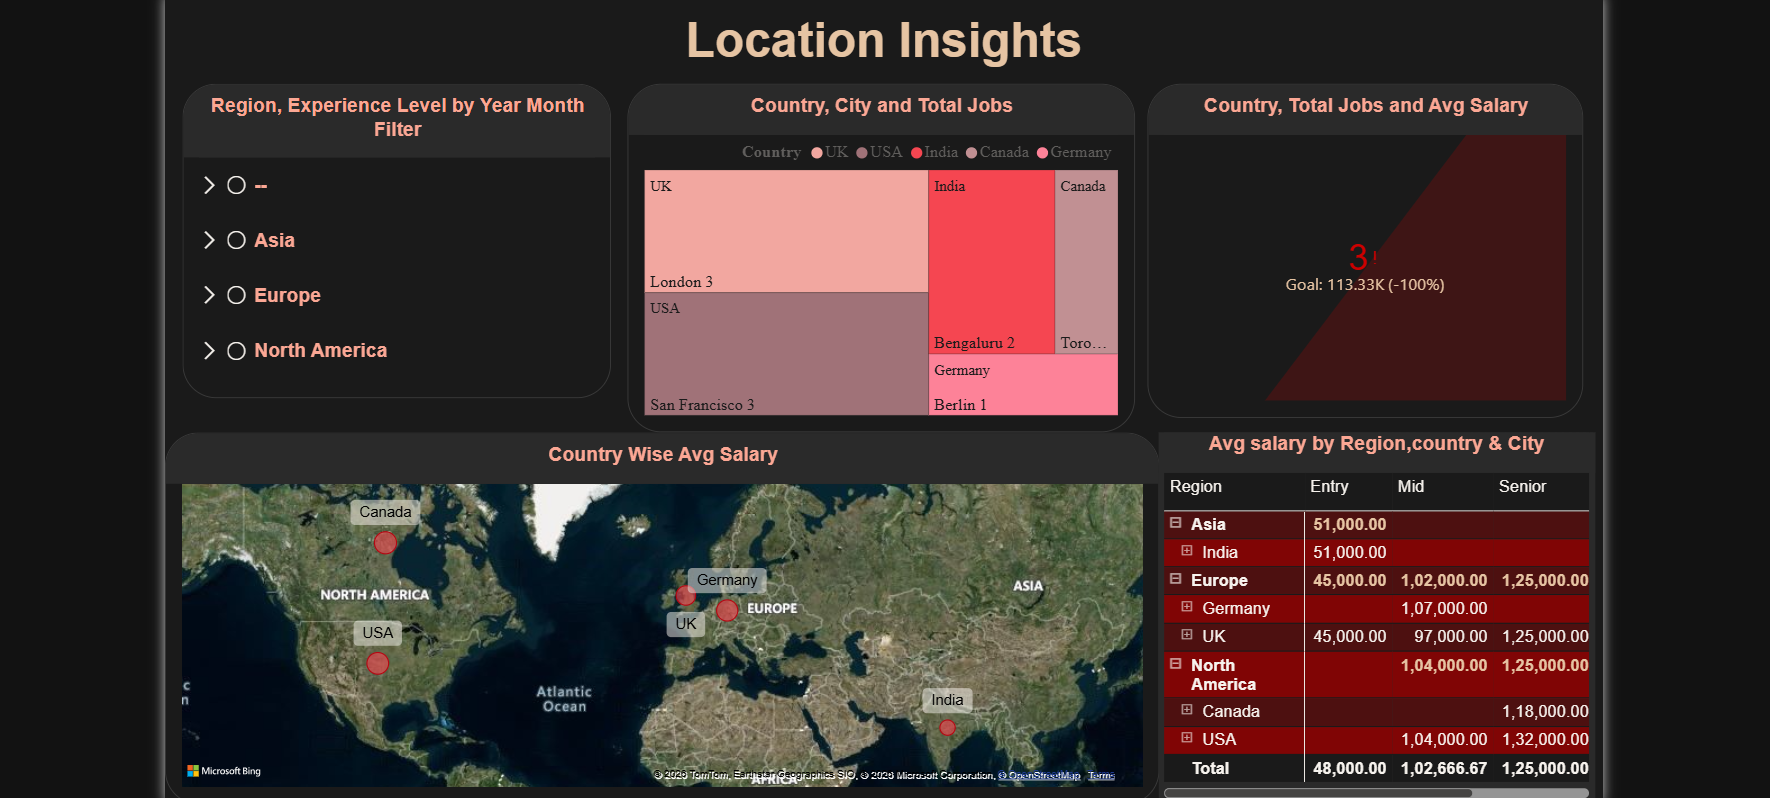

The dashboard page shown, as its layout file describes it:
{"tool":"powerbi","page":{"name":"Loction insights","canvas":[1280,720],"ordinal":1},"visuals":[{"type":"listSlicer","title":"Region, Experience Level by Year Month Filter","fields":{"Values":["Dim_Locations.Region","Fact_Jobs.Experience_Level","Dim_Date.YearMonth"]},"box":[15.9,79.5,381.7,279.9],"z":0},{"type":"textbox","box":[0,11.1,1280.4,97],"z":1000},{"type":"map","title":"Country Wise  Avg Salary","fields":{"Category":["Dim_Locations.Country"],"Size":["Fact_Jobs.AvgSalaryByCountry"]},"box":[0,389.7,886,330.8],"z":2000},{"type":"kpi","title":"Country, Total Jobs and Avg Salary","fields":{"Goal":["Fact_Jobs.AvgSalaryByCountry"],"Indicator":["Fact_Jobs.TotalJobs"],"TrendLine":["Dim_Locations.Country"]},"box":[874.8,79.5,388.1,297.4],"z":3000},{"type":"treemap","title":"Country, City and Total Jobs","fields":{"Group":["Dim_Locations.Country"],"Details":["Dim_Locations.City"],"Values":["Fact_Jobs.TotalJobs"]},"box":[412,79.5,451.7,310.2],"z":4000},{"type":"pivotTable","title":"Avg salary by Region,country & City","fields":{"Rows":["Dim_Locations.Region","Dim_Locations.Country","Dim_Locations.City"],"Columns":["Fact_Jobs.Experience_Level"],"Values":["Fact_Jobs.AvgSalaryByCountry"]},"box":[886,389.7,377,330.8],"z":5000}]}

Visuals, with their boxes on the page's 1280x720 design canvas (x1, y1, x2, y2). These are canvas units, not pixel positions in the 1770x798 screenshot, which may show the page scaled, cropped or inside an application window:
"Region, Experience Level by Year Month Filter" listSlicer: [16,80,398,359]
textbox: [0,11,1280,108]
"Country Wise  Avg Salary" map: [0,390,886,720]
"Country, Total Jobs and Avg Salary" kpi: [875,80,1263,377]
"Country, City and Total Jobs" treemap: [412,80,864,390]
"Avg salary by Region,country & City" pivotTable: [886,390,1263,720]
